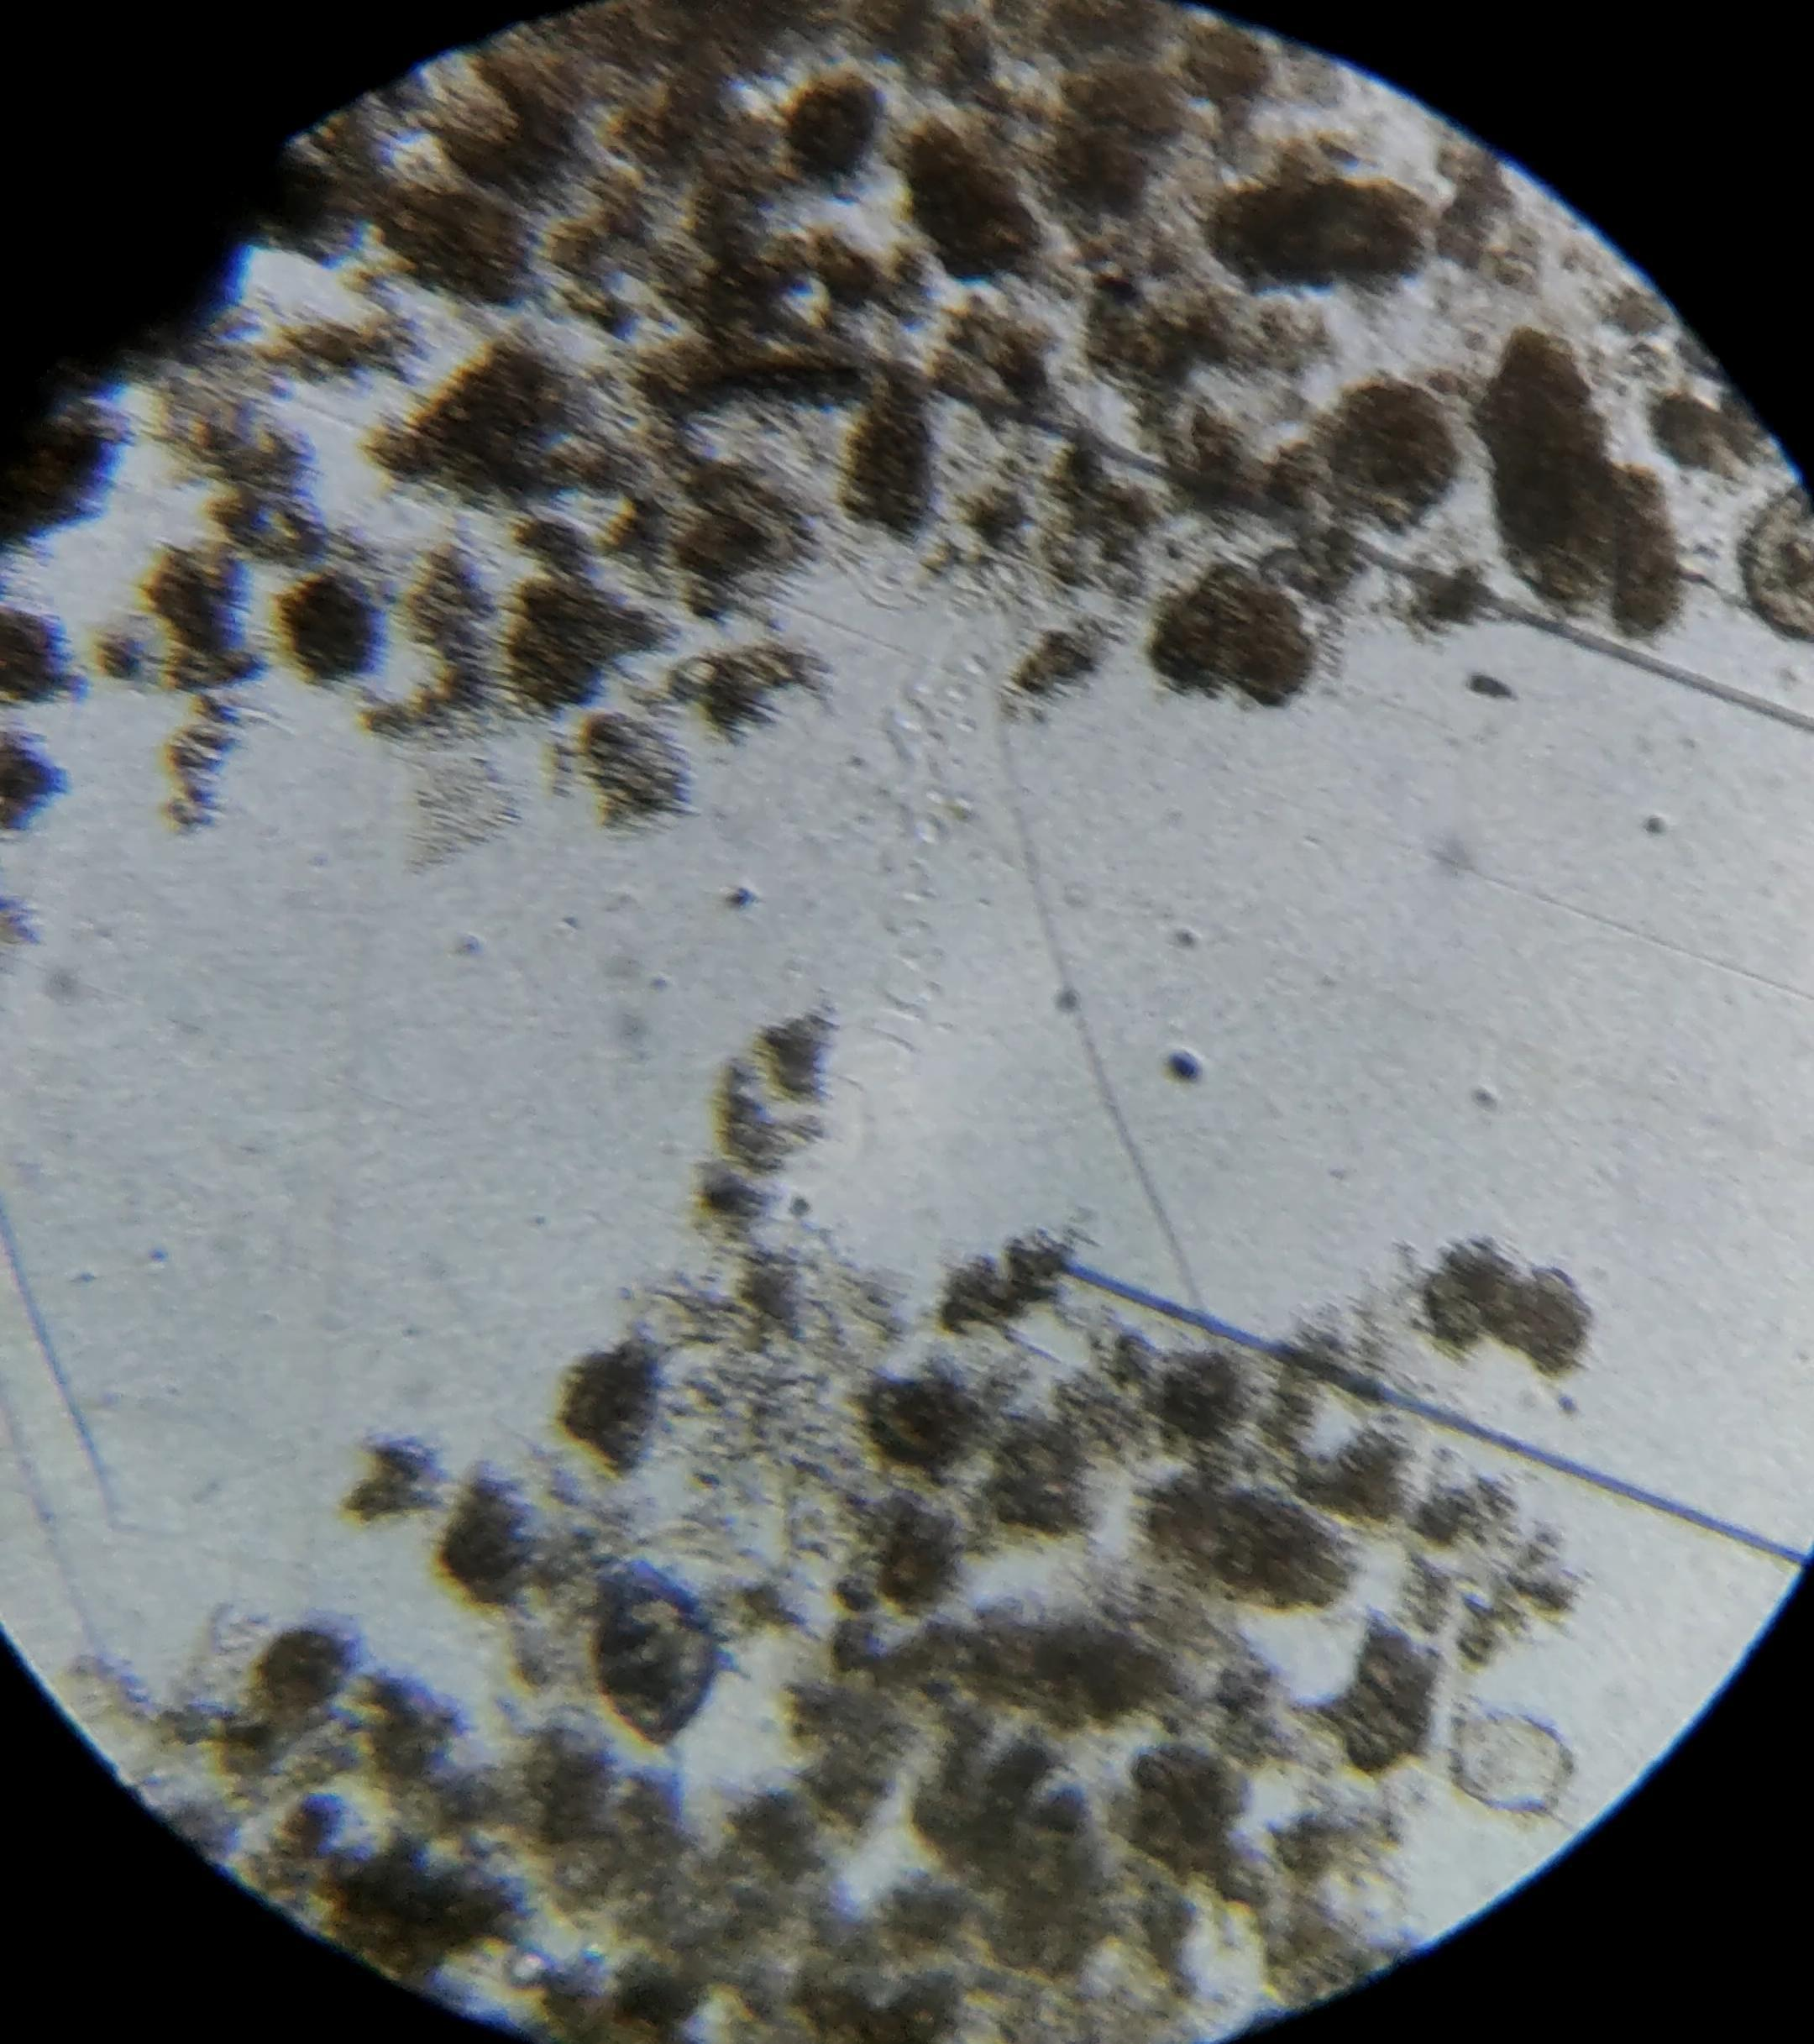Mo: (592, 1561, 716, 1774), (1744, 480, 1814, 645)
